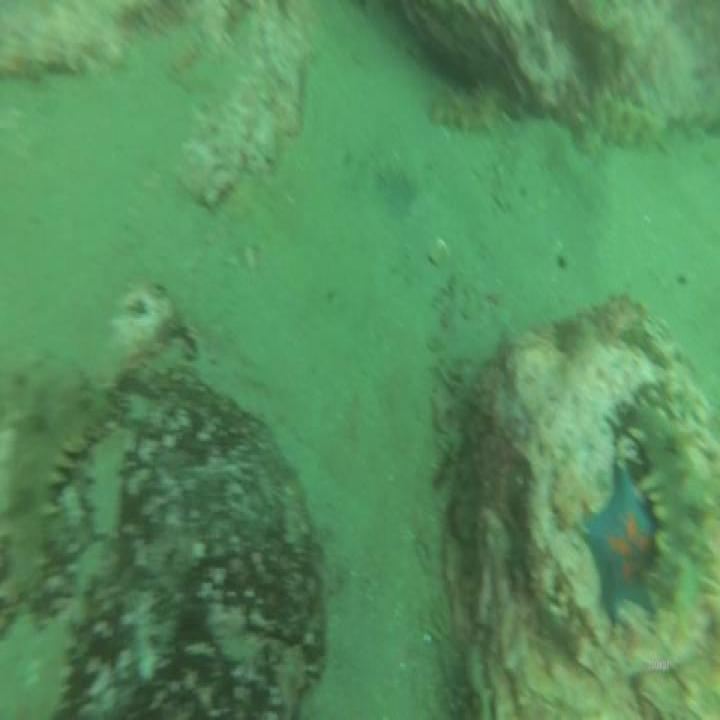holothurian: (14, 380, 115, 604), (626, 393, 720, 613), (582, 87, 668, 157), (424, 78, 507, 137)
starfish: (578, 464, 657, 624)
